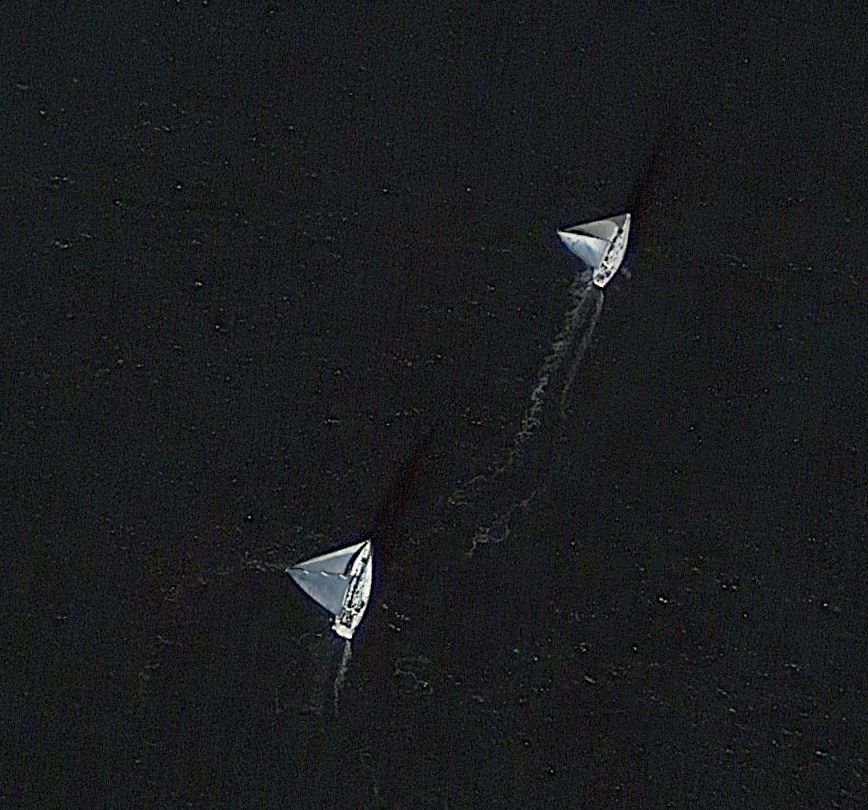boat: (282, 530, 380, 641), (554, 208, 638, 292)
